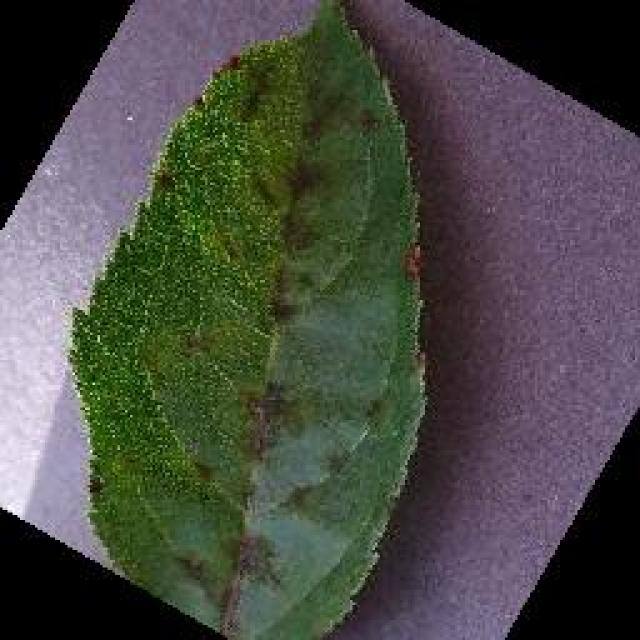apple scab disease: (62, 0, 430, 638)
